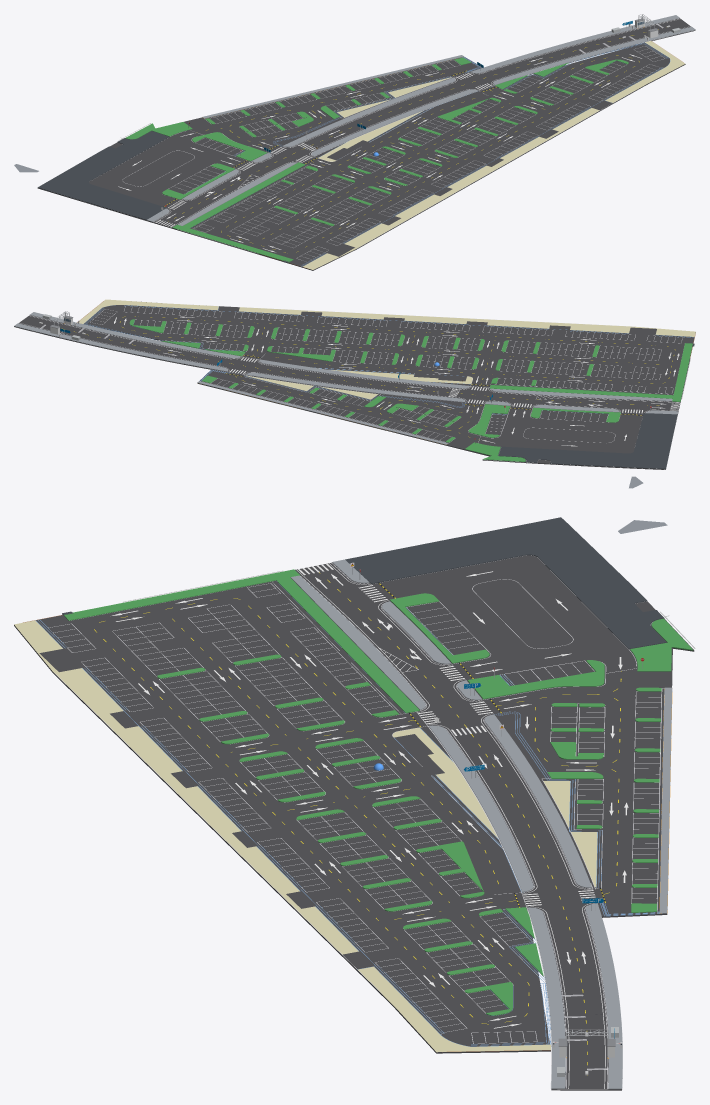
File: 3d-jutsu-Bai-do-xe-PHIA-DONG-2026-11-20-07-21-31.glb
3 views of the same model, one above another, from view 1: azimuth 30°, elevation 25°; view 2: azimuth 150°, elevation 25°; view 3: azimuth 270°, elevation 25° (orthographic). The views are drawn at different scales.
Visible parts, largest first — view 1: LOT_ground_z0, LOT_grass_raised, LOT_island_VH_loai2_raised, LOT_hatch_ANGLE_yellow_pending, LOT_granite_sidewalk_raised, LOT_stall_lines_outlines, LOT_ditch_lines, LOT_arrow_marks, LOT_road_paint_white, LOT_road_paint_yellow_11, LOT_crosswalk_stripes; view 2: LOT_ground_z0, LOT_grass_raised, LOT_island_VH_loai2_raised, LOT_stall_lines_outlines, LOT_hatch_ANGLE_yellow_pending, LOT_granite_sidewalk_raised, LOT_ditch_lines, LOT_arrow_marks, LOT_road_paint_white, LOT_road_paint_yellow_11, LOT_crosswalk_stripes; view 3: LOT_ground_z0, LOT_grass_raised, LOT_island_VH_loai2_raised, LOT_stall_lines_outlines, LOT_hatch_ANGLE_yellow_pending, LOT_granite_sidewalk_raised, LOT_ditch_lines, LOT_arrow_marks, LOT_road_paint_white, LOT_road_paint_yellow_11, LOT_crosswalk_stripes.
Part boxes in pixels (box(x1,y1,x2,y2)): LOT_ground_z0: box(37, 18, 695, 270); LOT_grass_raised: box(125, 57, 628, 262); LOT_island_VH_loai2_raised: box(147, 15, 695, 225); LOT_hatch_ANGLE_yellow_pending: box(303, 41, 685, 269); LOT_granite_sidewalk_raised: box(37, 131, 169, 219); LOT_stall_lines_outlines: box(116, 18, 695, 260); LOT_ditch_lines: box(195, 42, 670, 266); LOT_arrow_marks: box(118, 54, 641, 252); LOT_road_paint_white: box(155, 19, 690, 227); LOT_road_paint_yellow_11: box(168, 29, 658, 252); LOT_crosswalk_stripes: box(156, 73, 492, 227); LOT_ground_z0: box(14, 301, 695, 469); LOT_grass_raised: box(129, 319, 692, 461); LOT_island_VH_loai2_raised: box(14, 312, 678, 444); LOT_stall_lines_outlines: box(19, 304, 682, 469); LOT_hatch_ANGLE_yellow_pending: box(77, 299, 695, 399); LOT_granite_sidewalk_raised: box(498, 413, 677, 468); LOT_ditch_lines: box(84, 305, 694, 415); LOT_arrow_marks: box(114, 316, 679, 446); LOT_road_paint_white: box(20, 315, 679, 412); LOT_road_paint_yellow_11: box(62, 316, 675, 437); LOT_crosswalk_stripes: box(229, 357, 679, 413); LOT_ground_z0: box(14, 539, 694, 1090); LOT_grass_raised: box(63, 569, 693, 1015); LOT_island_VH_loai2_raised: box(290, 559, 672, 1089); LOT_stall_lines_outlines: box(48, 555, 664, 1089); LOT_hatch_ANGLE_yellow_pending: box(14, 620, 597, 1052); LOT_granite_sidewalk_raised: box(345, 517, 666, 649); LOT_ditch_lines: box(35, 581, 662, 1046); LOT_arrow_marks: box(112, 571, 628, 1028); LOT_road_paint_white: box(296, 563, 605, 1089); LOT_road_paint_yellow_11: box(94, 572, 621, 1075); LOT_crosswalk_stripes: box(298, 563, 595, 905).
Size of the model in its own units: 264 by 6.1 by 133.
